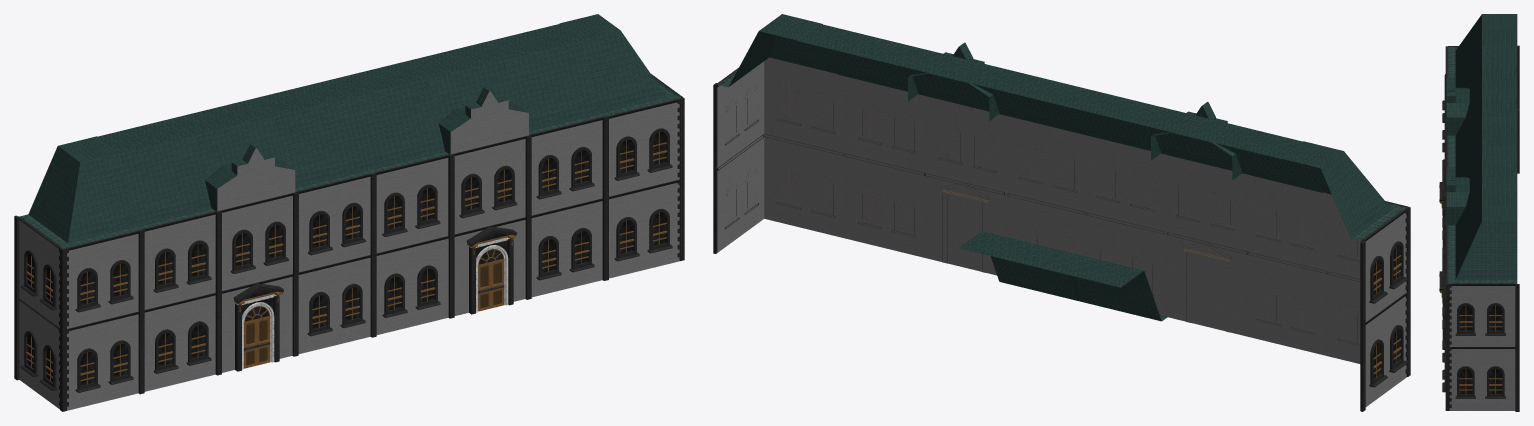
File: Mansion.001_House.003b.fbx
3 views of the same model, side by side, from view 1: azimuth 30°, elevation 25°; view 2: azimuth 150°, elevation 25°; view 3: azimuth 270°, elevation 25° (orthographic). The views are drawn at different scales.
Visible parts, largest first — view 1: Mansion001_House_003; view 2: Mansion001_House_003; view 3: Mansion001_House_003.
Part boxes in pixels (box(x1,y1,x2,y2)): Mansion001_House_003: box(14, 14, 684, 411); Mansion001_House_003: box(713, 14, 1410, 411); Mansion001_House_003: box(1439, 14, 1519, 411).
Bounding box in the file's own units: 3225 × 1092 × 453.
